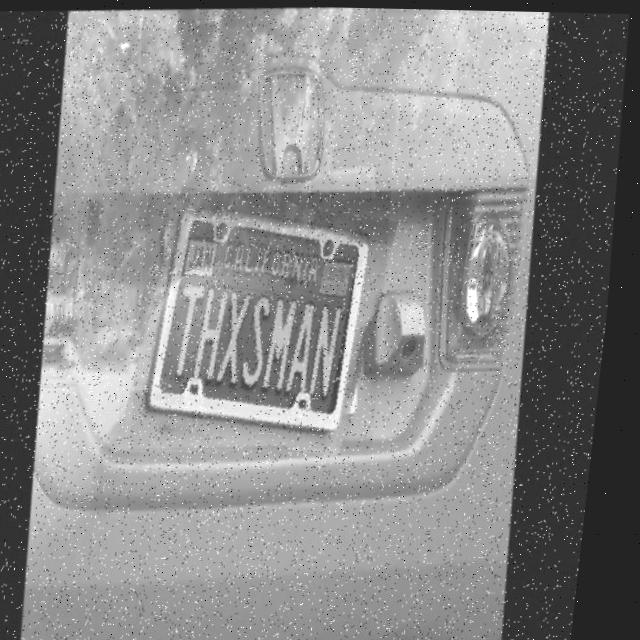LicensePlate: (131, 185, 404, 454)
